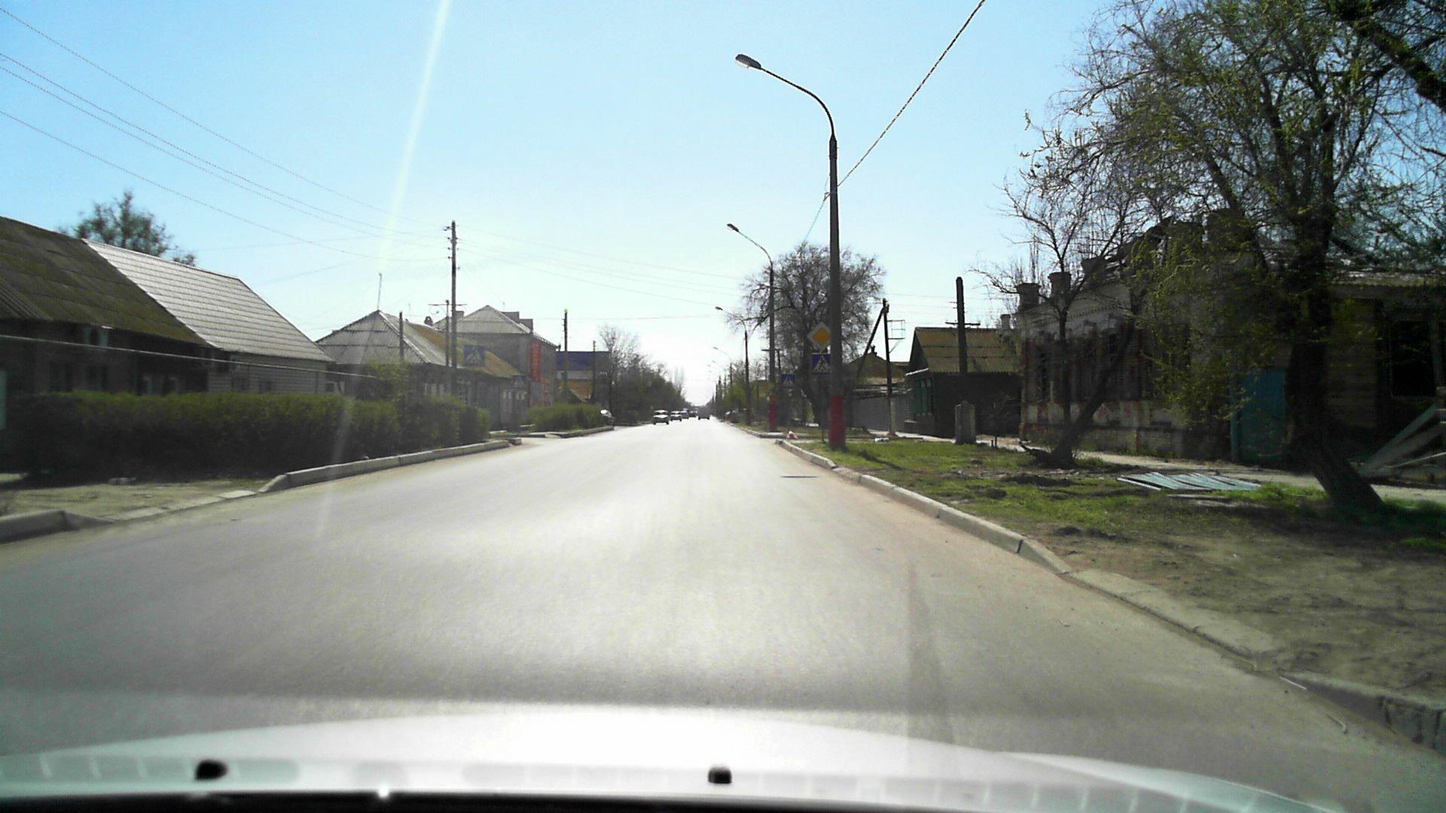obstructed_road_sign: (805, 321, 831, 351)
road_sign: (461, 342, 486, 367), (812, 353, 832, 375)
